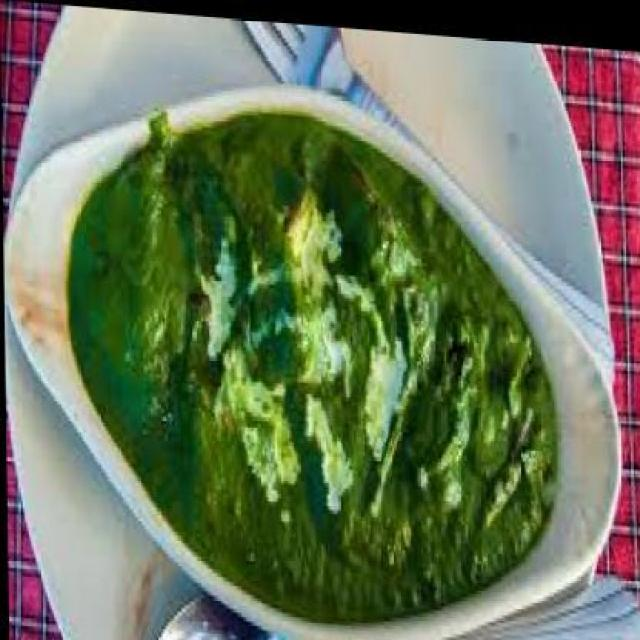palak_paneer: (64, 94, 558, 632)
